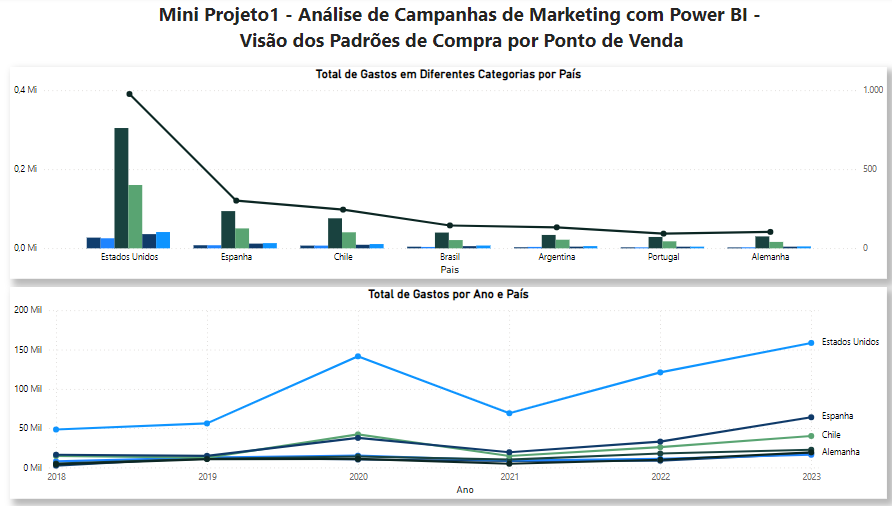

The dashboard page shown, as its layout file describes it:
{"tool":"powerbi","page":{"name":"Visão Pontos de Venda","canvas":[1280,720],"ordinal":3},"visuals":[{"type":"lineClusteredColumnComboChart","title":"Total de Gastos em Diferentes Categorias por País","fields":{"Category":["DadosMarketing.Pais"],"Y":["Sum(DadosMarketing.Gasto com Alimentos)","Sum(DadosMarketing.Gasto com Brinquedos)","Sum(DadosMarketing.Gasto com Eletronicos)","Sum(DadosMarketing.Gasto com Moveis)","Sum(DadosMarketing.Gasto com Utilidades)","Sum(DadosMarketing.Gasto com Vestuario)"],"Y2":["CountNonNull(DadosMarketing.ID)"]},"box":[19.8,98.8,1238.1,299],"z":0},{"type":"lineChart","title":"Total de Gastos por Ano e País","fields":{"Y":["DadosMarketing.TotalGastos"],"Series":["DadosMarketing.Pais"],"Category":["DadosMarketing.Data Cadastro.Variation.Hierarquia de datas.Ano"]},"box":[19.8,409.4,1238.1,299.3],"z":1000},{"type":"textbox","box":[224.3,0,865.1,84.3],"z":4000}]}

Visuals, with their boxes in screenshot pixels (x1, y1, x2, y2), scaled from the page's 1280x720 canvas onto the 892x506 screenshot:
"Total de Gastos em Diferentes Categorias por País" lineClusteredColumnComboChart: BBox(14, 69, 877, 280)
"Total de Gastos por Ano e País" lineChart: BBox(14, 288, 877, 498)
textbox: BBox(156, 0, 759, 59)
